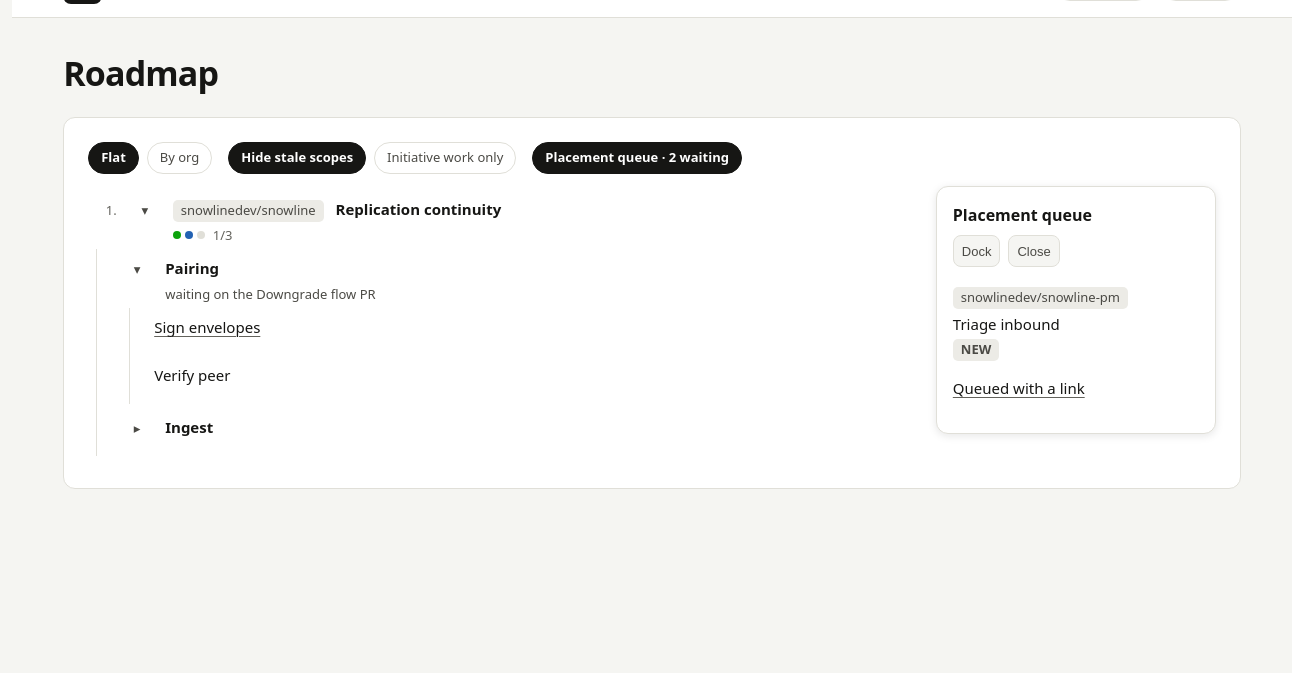
it: board kind: drawer › ?drawer=open opens the overlay on load, and the toggle closes it
Expected: the text "Replication continuity" is shown, [336,199,501,219]
Click the button "Placement queue · 2 waiting" at (637, 158), box [532,142,742,174]
(page scrolled)
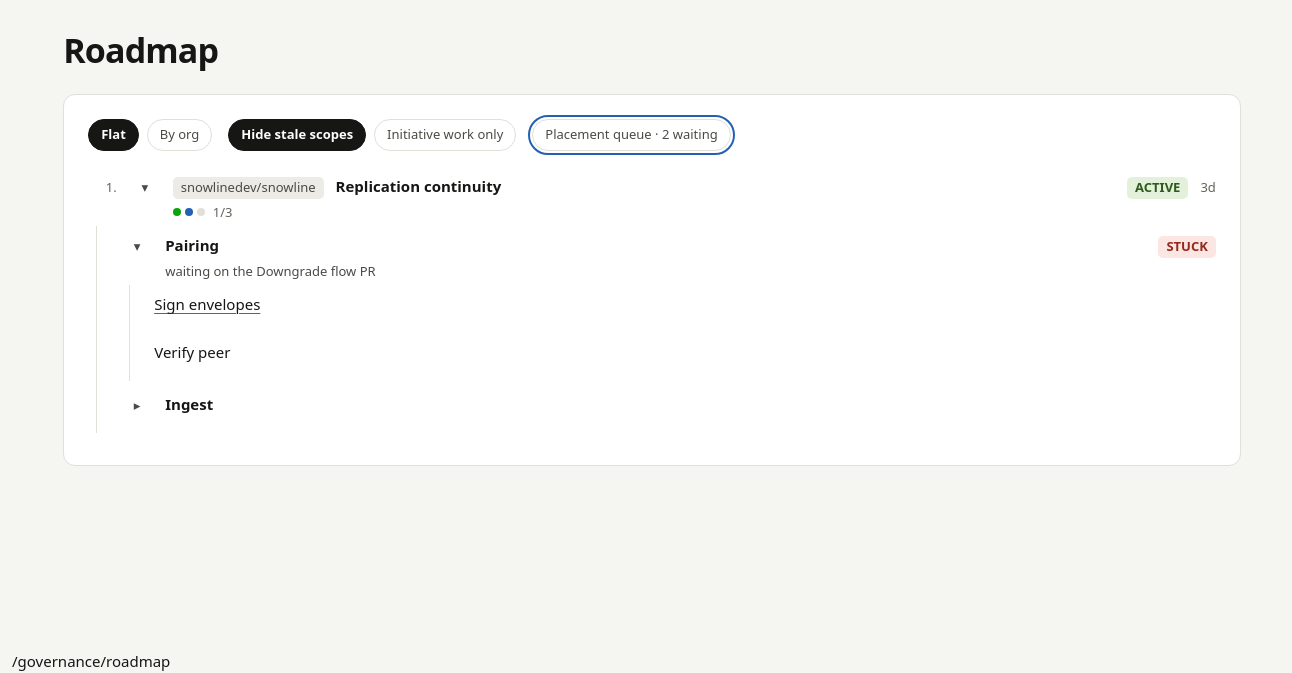
Result: the text with test id "url" reads "/governance/roadmap" at [12,651,170,671]
